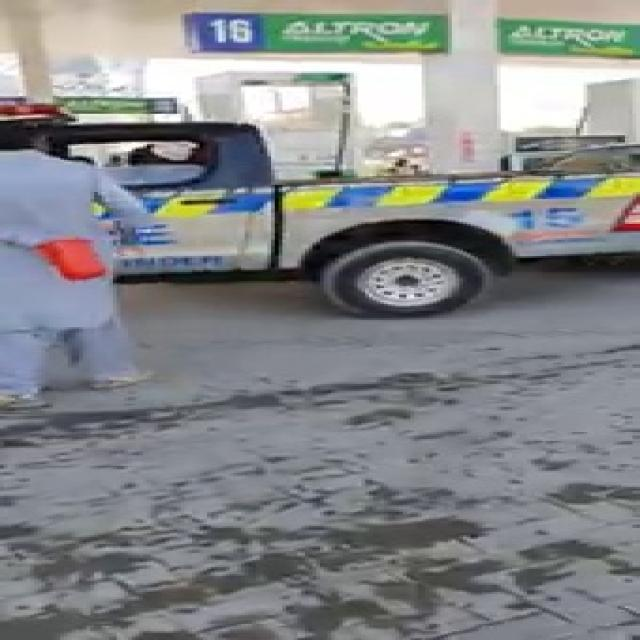police: (18, 117, 637, 306)
